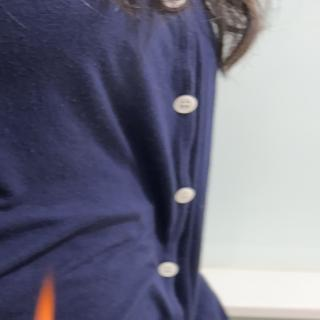fire: (27, 272, 55, 320)
